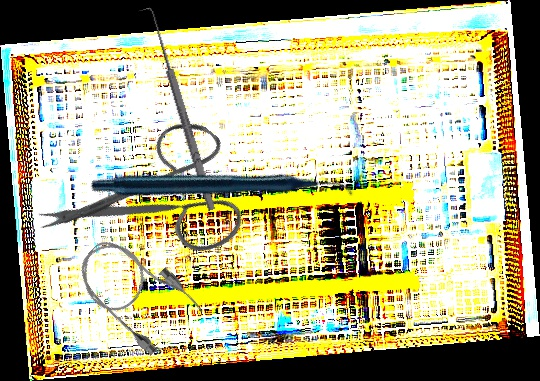Cannula: (65, 222, 208, 362)
Handpiece: (88, 62, 356, 317)
Hook Surgical: (136, 5, 220, 214)
Iris Scissors: (30, 79, 277, 327)
